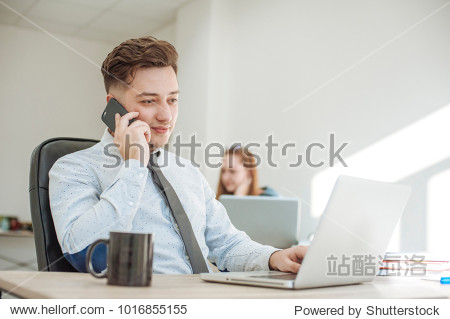phone: (100, 94, 144, 135)
talk: (99, 81, 183, 163)
